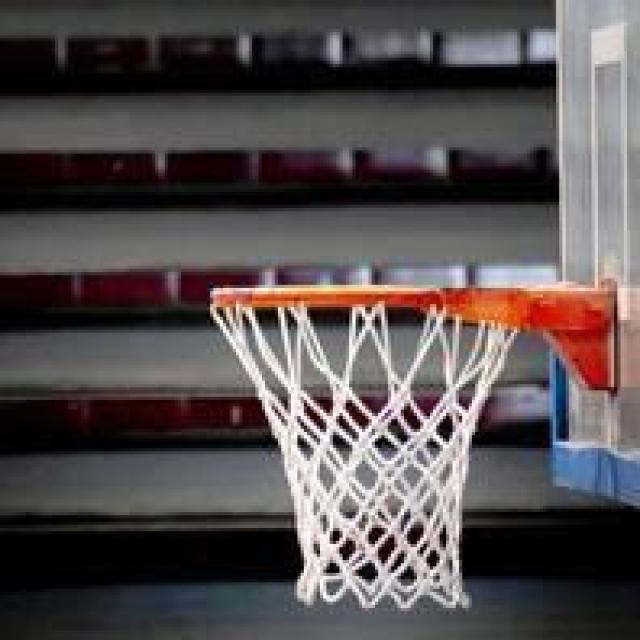hoop: (160, 264, 640, 622)
